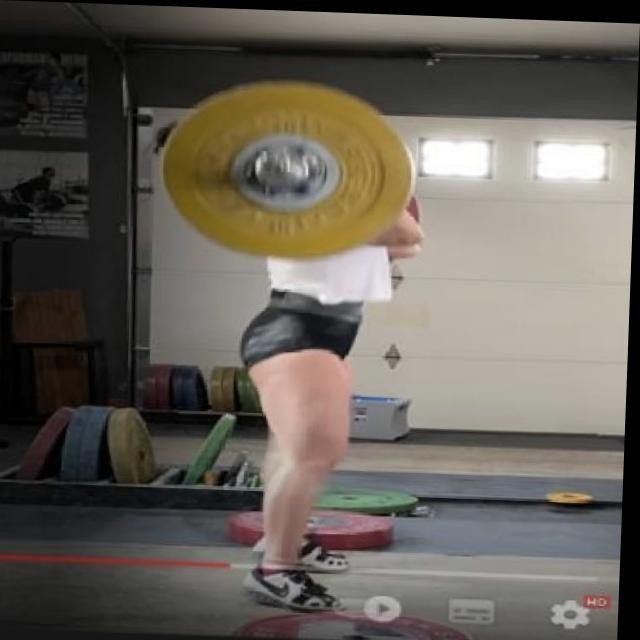barbell: (158, 68, 423, 264)
